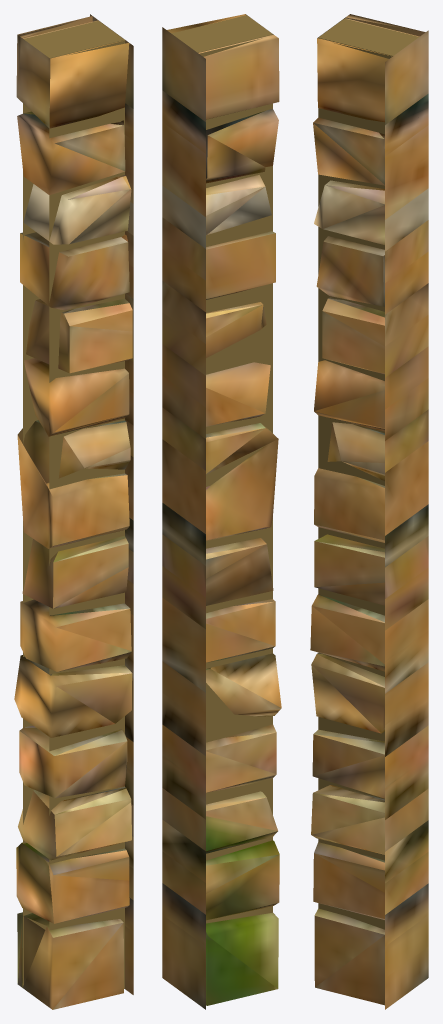
The model's file is corner-post-stone.lod1.glb.
3 views of the same model, side by side, from view 1: azimuth 30°, elevation 25°; view 2: azimuth 210°, elevation 25°; view 3: azimuth 330°, elevation 25° (orthographic).
Bounding box in the file's own units: 0.25 × 3 × 0.25.
1 material, 1 textured.
